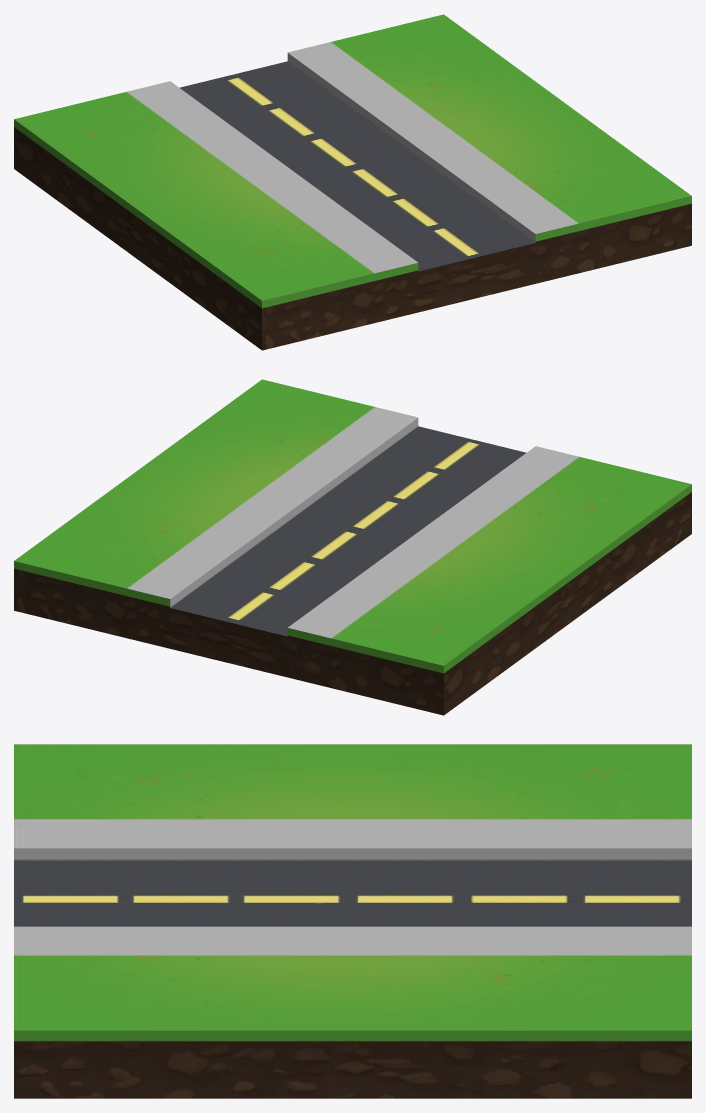
The model's file is city_road_02.glb.
The picture shows the model from 3 angles, top to bottom: view 1: azimuth 30°, elevation 25°; view 2: azimuth 150°, elevation 25°; view 3: azimuth 270°, elevation 25°; orthographic projection. The views are drawn at different scales.
Visible parts, largest first — view 1: road_02; view 2: road_02; view 3: road_02.
Boxes of the visible parts, bbox=[...] form: road_02: bbox=[14, 14, 691, 350]; road_02: bbox=[14, 379, 691, 715]; road_02: bbox=[14, 744, 691, 1098].
Size of the model in its own units: 22 by 2.43 by 22.
1 material, 1 textured.
